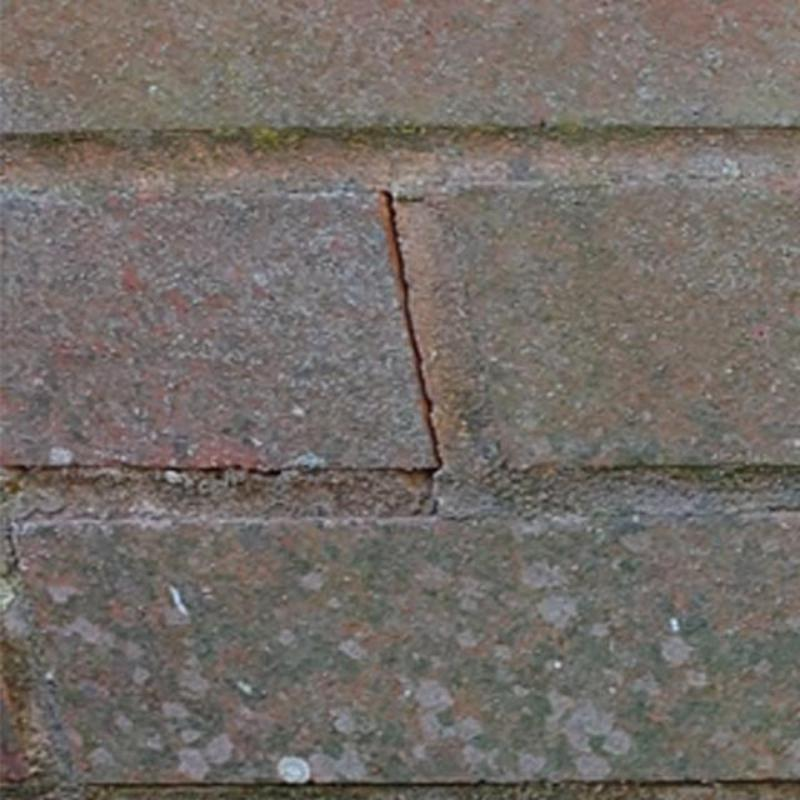pothole: (380, 191, 441, 510)
